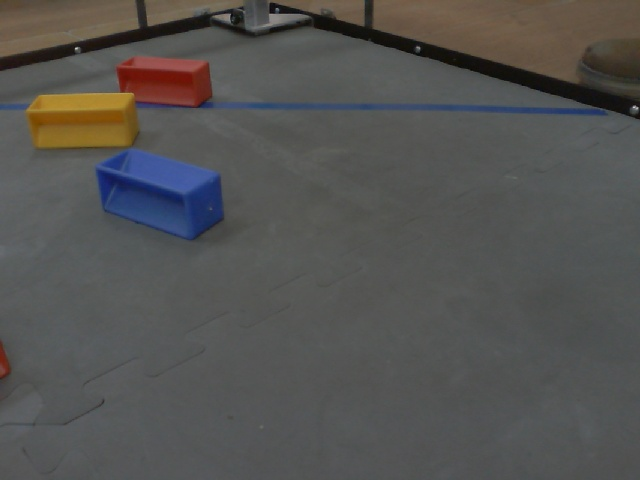BlueSample: (93, 146, 227, 242)
RedSample: (113, 50, 214, 109)
YellowSample: (22, 89, 144, 148)
